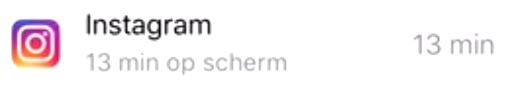name: (79, 10, 229, 41)
time: (81, 47, 165, 76)
